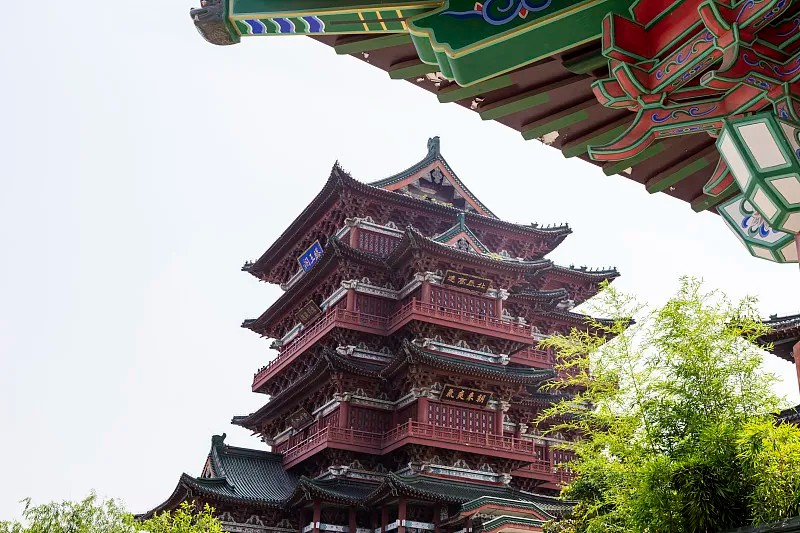Teng: (231, 136, 637, 506)
